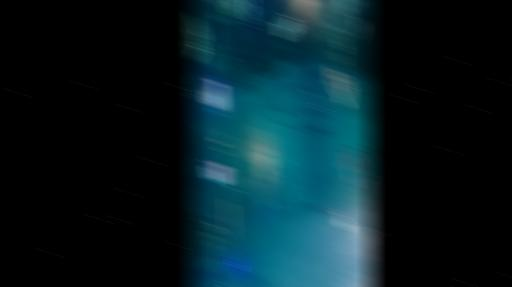Fish: (328, 67, 351, 110), (274, 17, 299, 38), (332, 209, 349, 230), (346, 147, 361, 170), (340, 152, 353, 171), (343, 170, 356, 189), (311, 202, 330, 214), (359, 170, 370, 189), (270, 179, 283, 194), (243, 2, 252, 22), (258, 194, 271, 207), (275, 100, 286, 113), (266, 95, 275, 110), (356, 18, 362, 38), (280, 172, 288, 186), (270, 76, 279, 87), (300, 86, 306, 102), (366, 146, 372, 161), (257, 102, 266, 111), (264, 194, 270, 207), (277, 194, 283, 207), (257, 87, 263, 100), (276, 121, 287, 128), (306, 128, 325, 131), (279, 79, 285, 88), (284, 84, 288, 97), (308, 199, 317, 204), (357, 283, 365, 286), (270, 76, 272, 87), (357, 283, 362, 286)
